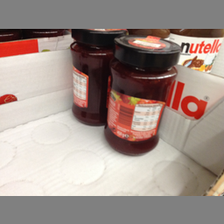jam: (105, 36, 183, 156), (70, 28, 126, 127)
